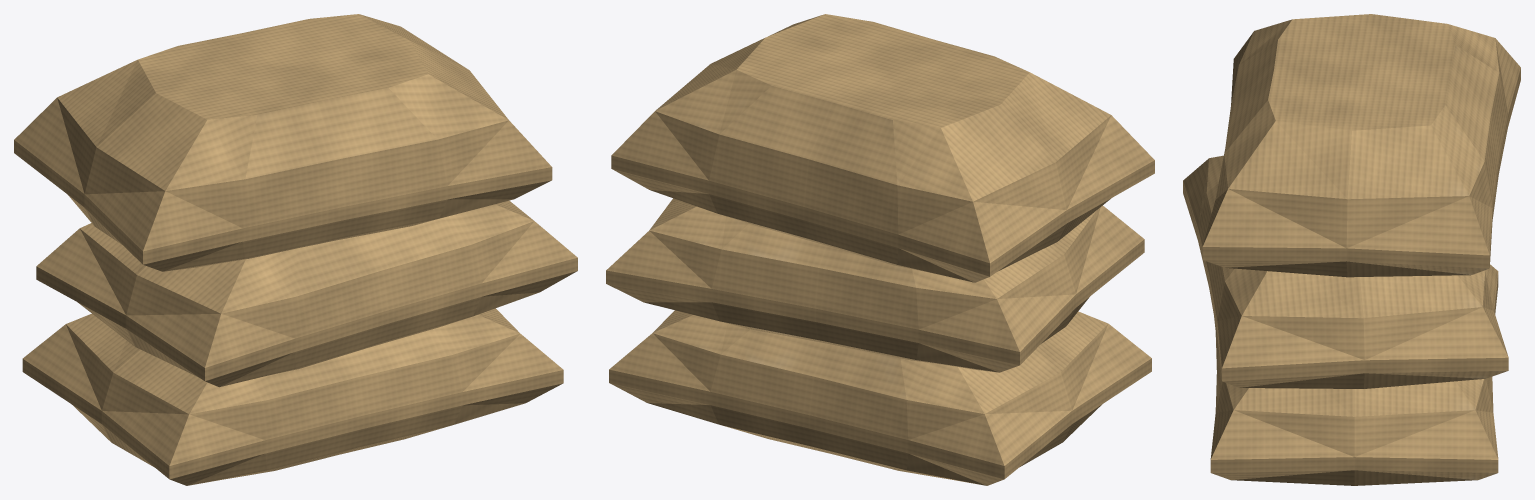
Rendered from FMS_Crate_Sack_Pile.fbx.
3 views of the same model, side by side, from view 1: azimuth 30°, elevation 25°; view 2: azimuth 150°, elevation 25°; view 3: azimuth 270°, elevation 25° (orthographic). The views are drawn at different scales.
Visible parts, largest first — view 1: item_stalls_sack_pile_v2; view 2: item_stalls_sack_pile_v2; view 3: item_stalls_sack_pile_v2.
Part boxes in pixels (x1=…): item_stalls_sack_pile_v2: x1=14, y1=14, x2=577, y2=485; item_stalls_sack_pile_v2: x1=606, y1=14, x2=1154, y2=485; item_stalls_sack_pile_v2: x1=1183, y1=14, x2=1520, y2=485.
Bounding box in the file's own units: 0.6744 × 0.53 × 0.4694.
